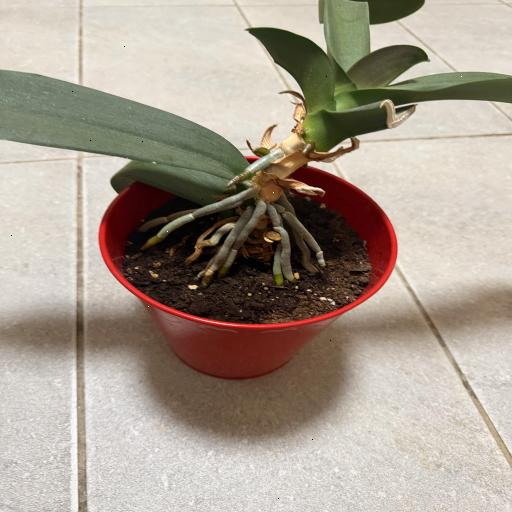Plant Pot: (98, 154, 400, 380)
